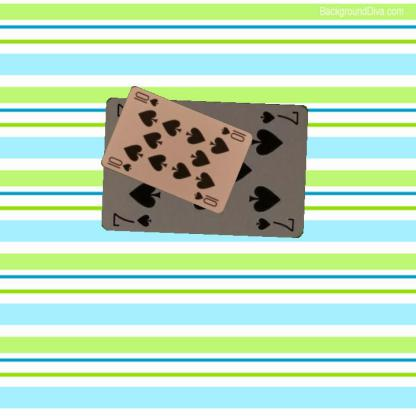10s: (218, 125, 246, 144), (104, 154, 133, 172)
7s: (110, 209, 153, 228), (258, 108, 300, 126)
